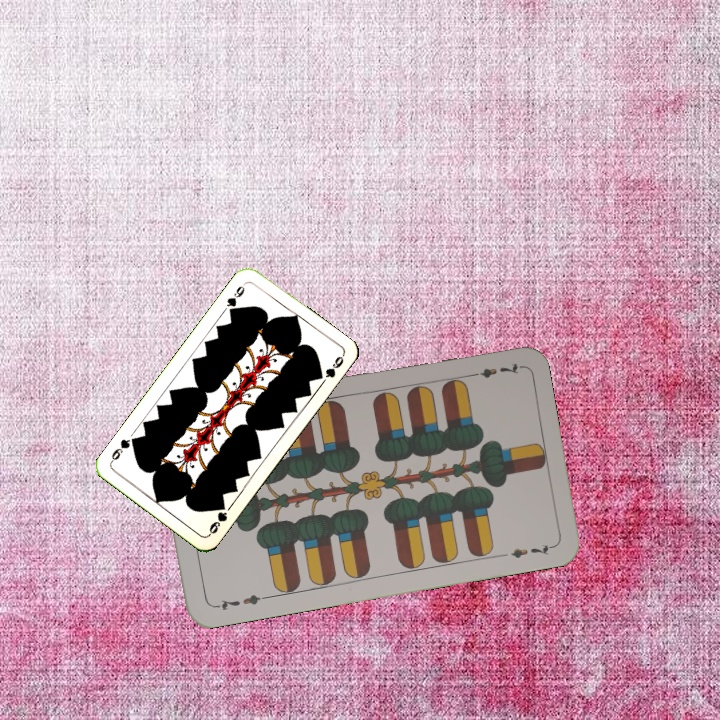E7: (210, 591, 269, 613), (464, 360, 523, 381)
G9: (222, 279, 249, 317), (205, 499, 230, 538)
